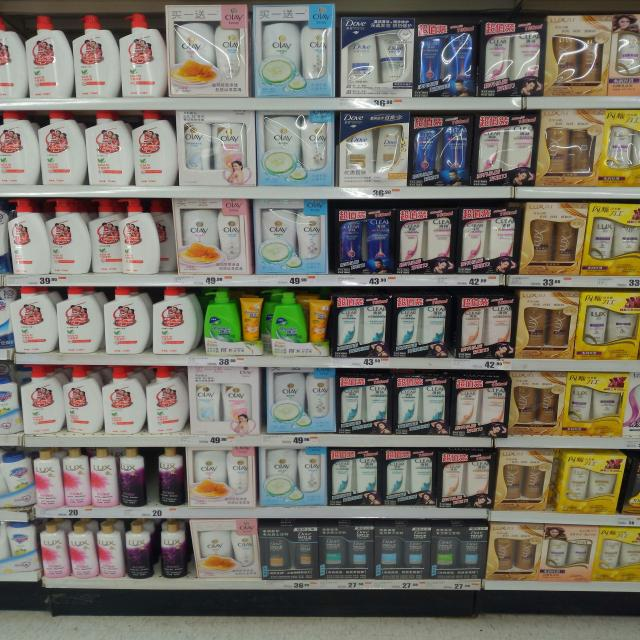unorganised: (113, 200, 160, 275)
